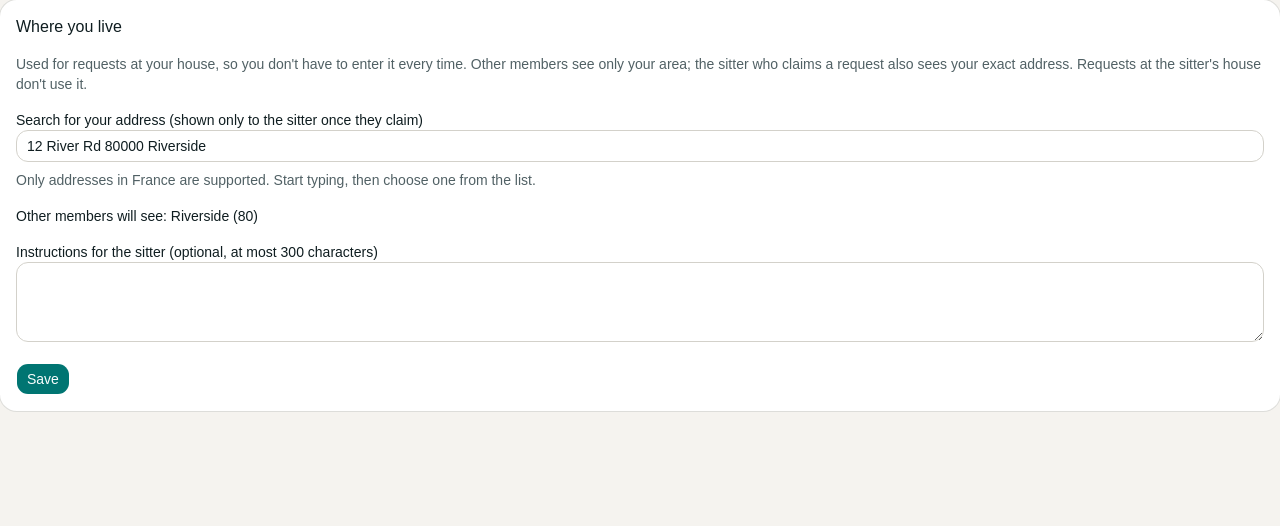
it: ProfilePage › explains a rejected address
This screenshot has width=1280, height=526.
Expected: the dropdown is shown, [16,130,1264,162]
Click the button "Save": {"x": 43, "y": 379} [16,363,70,395]
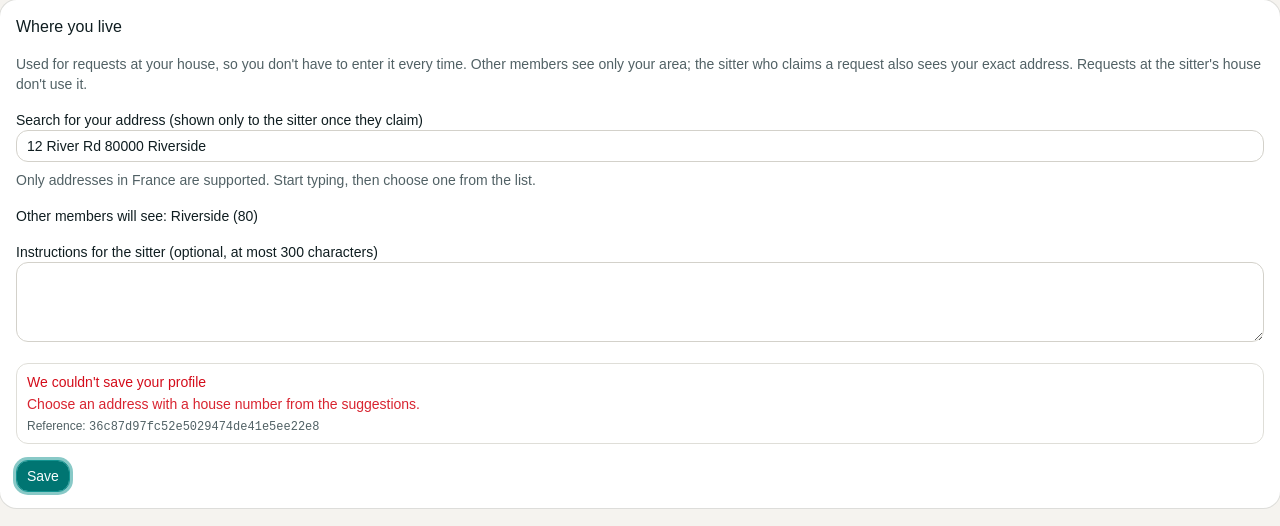
Expected: the message shows "house number", [27,396,420,412]
